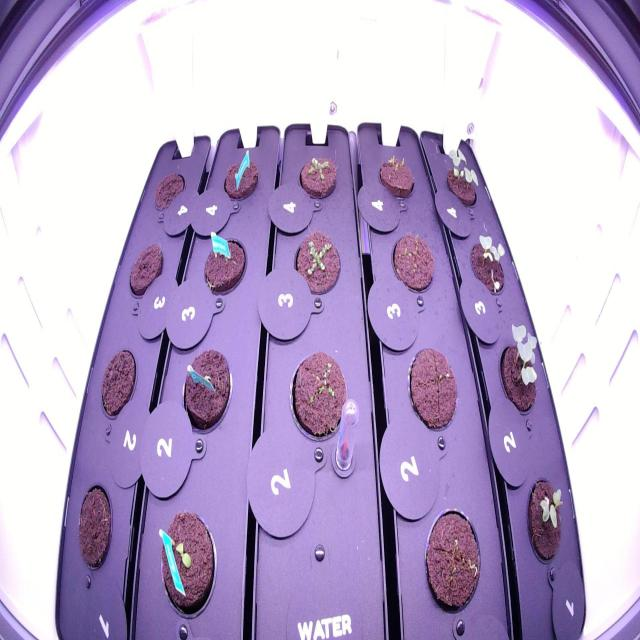germination: (154, 503, 223, 626), (490, 318, 545, 421), (519, 468, 571, 574), (291, 221, 345, 307), (467, 224, 512, 310), (439, 139, 483, 218), (294, 148, 343, 208), (371, 150, 419, 206)
pod: (418, 500, 486, 624), (280, 345, 357, 453), (174, 339, 238, 445), (401, 342, 463, 444), (73, 474, 117, 582), (198, 225, 250, 305), (386, 225, 438, 304), (96, 339, 141, 427), (124, 235, 168, 313), (218, 150, 264, 212), (151, 163, 190, 220)
